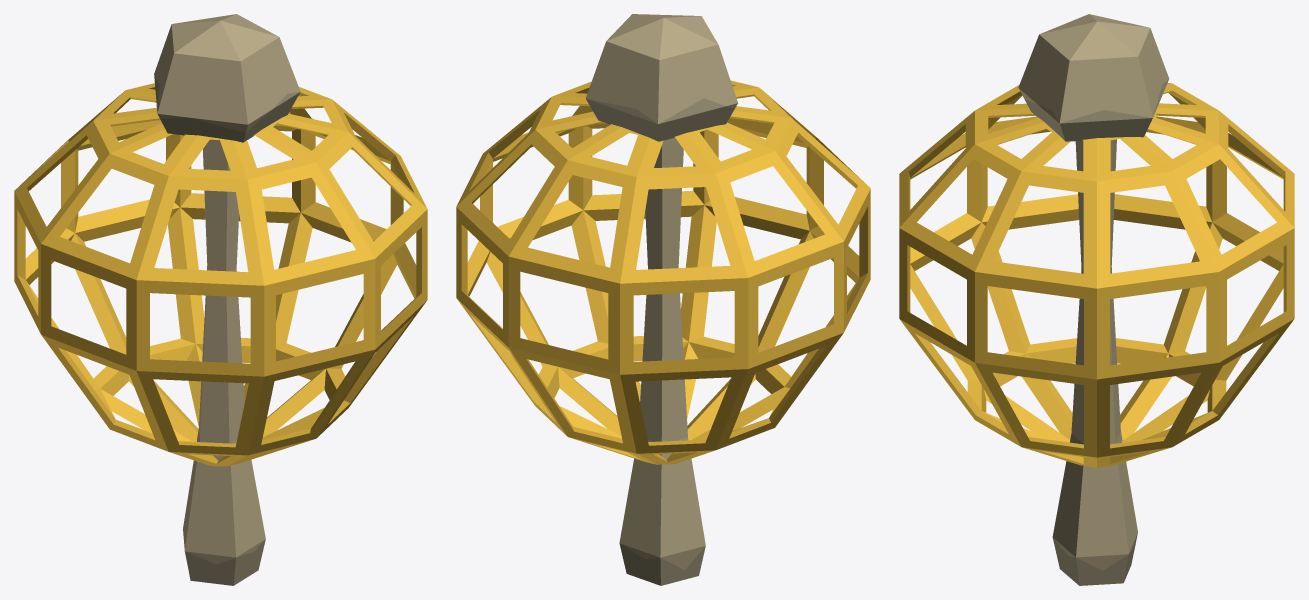
File: Mushroom_04.FBX
3 renders of one model, left to right at view 1: azimuth 30°, elevation 25°; view 2: azimuth 150°, elevation 25°; view 3: azimuth 270°, elevation 25°, orthographic.
Parts seen in each view (by area): view 1: Mushroom_04; view 2: Mushroom_04; view 3: Mushroom_04.
Part boxes in pixels (x1,y1,x2,y2): Mushroom_04: [14, 14, 427, 585]; Mushroom_04: [456, 14, 870, 585]; Mushroom_04: [899, 14, 1294, 585].
Size of the model in its own units: 0.9175 by 1.34 by 0.8726.
